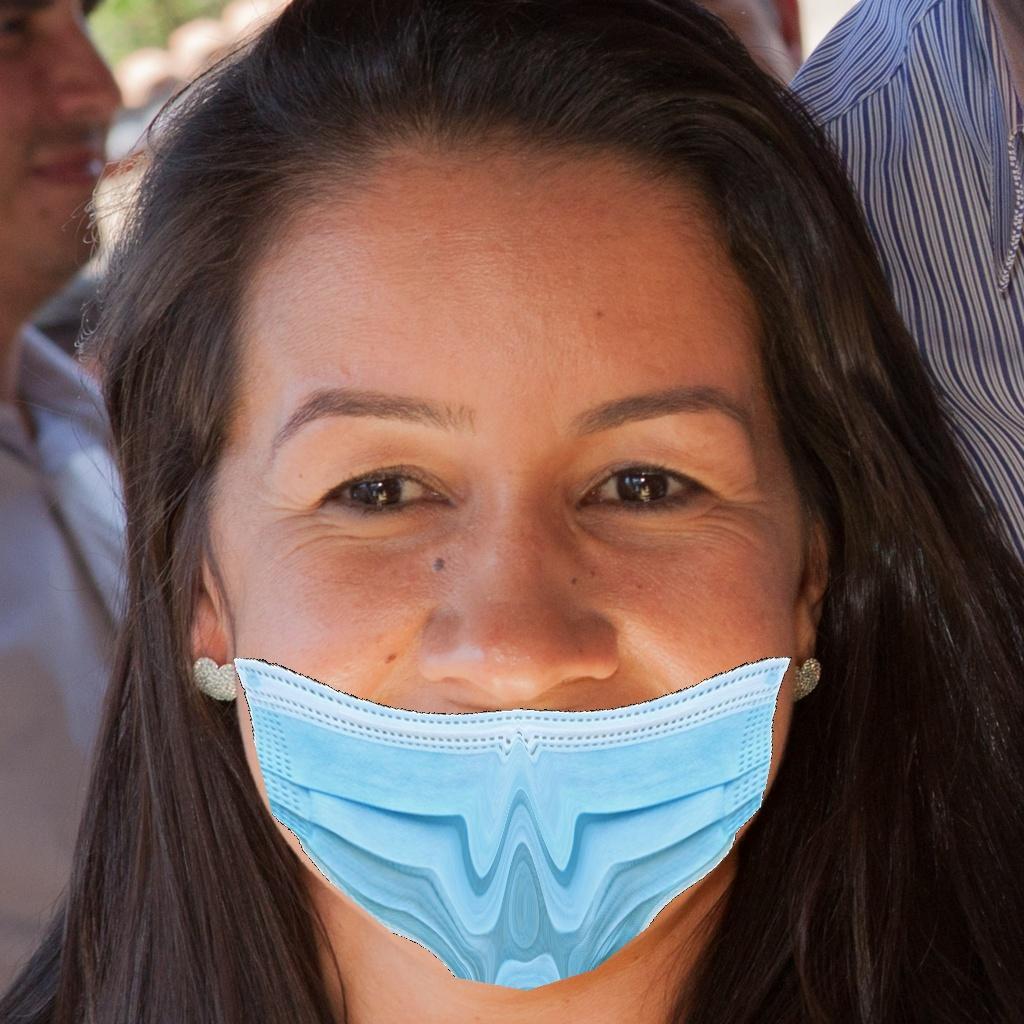Máscara Incorreta: (181, 229, 793, 956)
